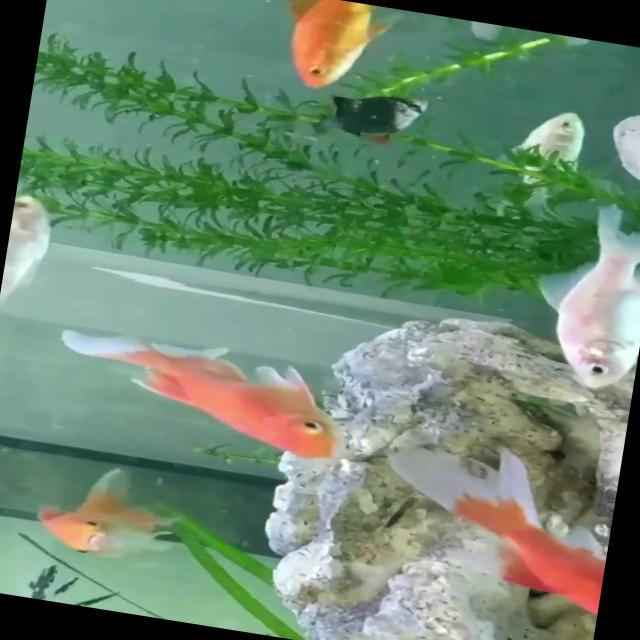GoldFish: (34, 305, 363, 471), (510, 184, 640, 405), (22, 448, 190, 570), (259, 0, 403, 107)
